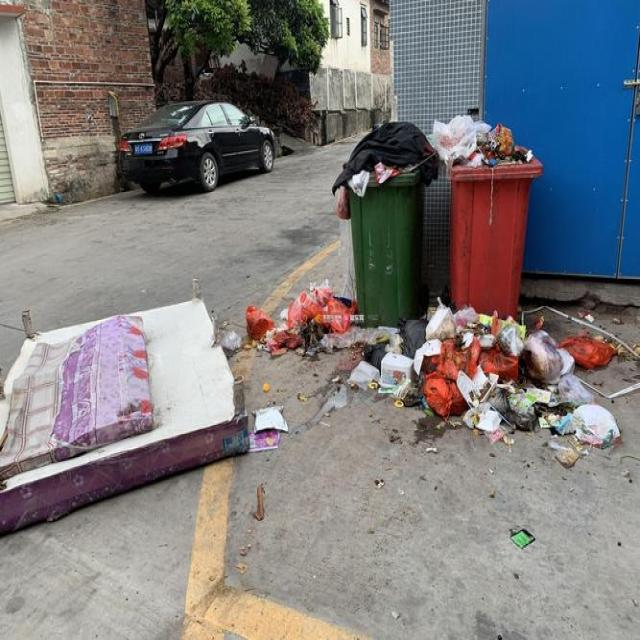garbage: (243, 279, 639, 469)
overflow: (332, 120, 439, 325), (434, 115, 541, 316)
